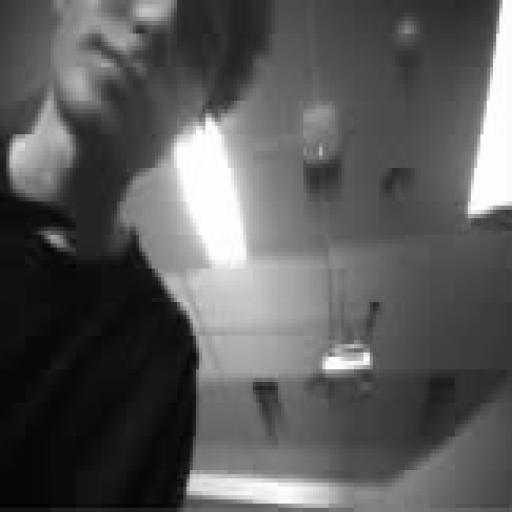human: (0, 0, 271, 507)
